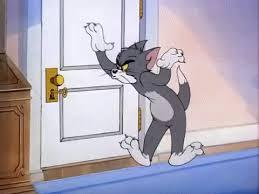tom: (83, 21, 207, 167)
